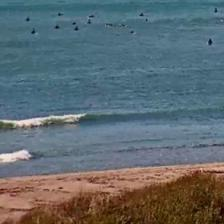surfer: (207, 38, 214, 45), (106, 23, 115, 28), (86, 19, 92, 25), (30, 29, 36, 35), (73, 26, 80, 31), (57, 12, 64, 17), (54, 25, 61, 30), (71, 21, 77, 26), (25, 17, 31, 22), (138, 13, 145, 17), (130, 30, 137, 34), (120, 24, 127, 28), (214, 8, 219, 13), (88, 15, 94, 18), (144, 18, 148, 22)
